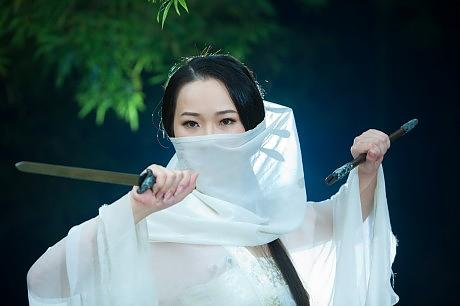OK: (174, 106, 242, 174)
